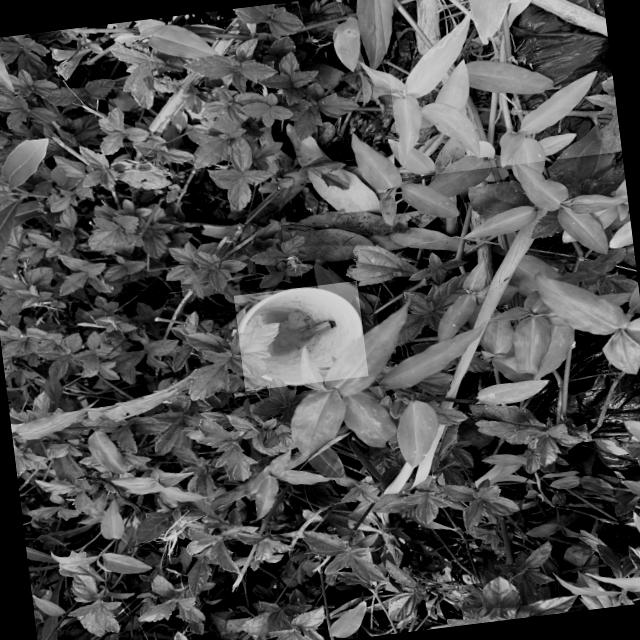Cup: (237, 288, 363, 384)
Garbage bag: (387, 0, 611, 159)
